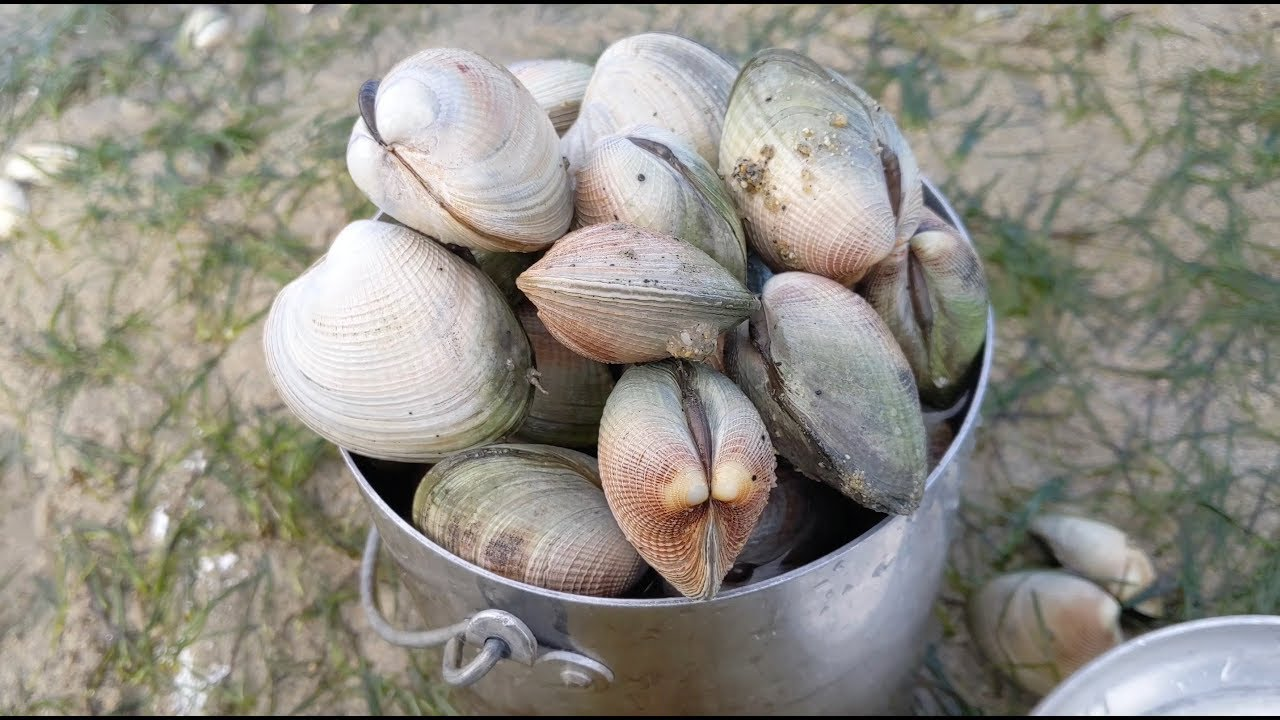cockle: (262, 215, 533, 462), (716, 42, 928, 285), (724, 268, 929, 518), (337, 45, 579, 253), (590, 364, 775, 603), (409, 441, 658, 602), (514, 226, 762, 366), (567, 122, 758, 280), (863, 205, 990, 405), (578, 34, 748, 167), (502, 296, 620, 453), (514, 56, 600, 122)
